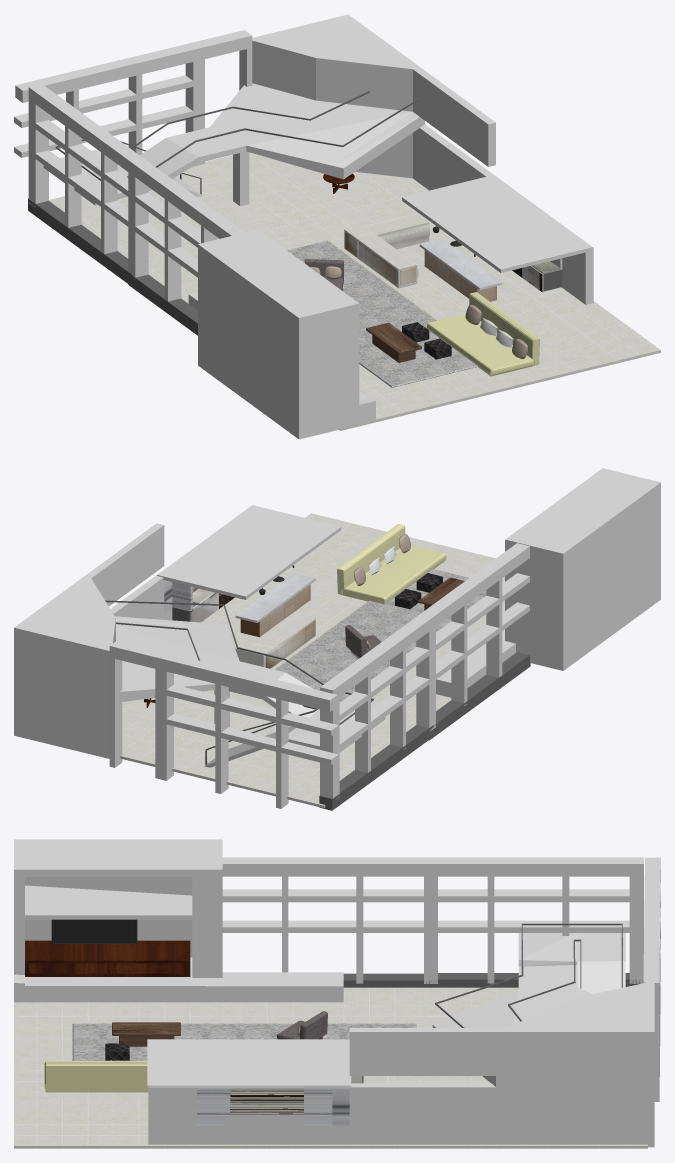
The model's file is interior house.fbx.
The picture shows the model from 3 angles, top to bottom: view 1: azimuth 30°, elevation 25°; view 2: azimuth 150°, elevation 25°; view 3: azimuth 270°, elevation 25°; orthographic projection. The views are drawn at different scales.
Parts seen in each view (by area): view 1: kitchen_room, floor, room, outside_railing1, outside_railing, kitchen_room1, matt, lkitchenshape, DOWN_PILLAR, bed, KITCHEN_SPACER, bed_support (+3 smaller); view 2: kitchen_room, room, floor, outside_railing1, outside_railing, kitchen_room1, matt, DOWN_PILLAR, bed, lkitchenshape, bed_support, KITCHEN_SPACER (+4 smaller); view 3: kitchen_room, room, floor, outside_railing1, kitchen_room1, table2, matt, bed_support, outside_railing, DOWN_PILLAR, TV, table_LIVING (+1 smaller).
Part boxes in pixels (x1=…): kitchen_room: x1=43, y1=14, x2=593, y2=304; floor: x1=49, y1=153, x2=660, y2=430; room: x1=188, y1=229, x2=375, y2=439; outside_railing1: x1=28, y1=84, x2=244, y2=301; outside_railing: x1=14, y1=30, x2=252, y2=166; kitchen_room1: x1=402, y1=175, x2=592, y2=272; matt: x1=287, y1=240, x2=477, y2=387; lkitchenshape: x1=344, y1=212, x2=429, y2=288; DOWN_PILLAR: x1=28, y1=198, x2=197, y2=335; bed: x1=427, y1=313, x2=534, y2=376; KITCHEN_SPACER: x1=419, y1=238, x2=502, y2=290; bed_support: x1=469, y1=292, x2=539, y2=365; kitchen_room: x1=14, y1=523, x2=385, y2=767; room: x1=436, y1=468, x2=660, y2=697; floor: x1=120, y1=513, x2=504, y2=808; outside_railing1: x1=320, y1=543, x2=529, y2=799; outside_railing: x1=109, y1=640, x2=338, y2=808; kitchen_room1: x1=157, y1=505, x2=341, y2=599; matt: x1=275, y1=569, x2=486, y2=701; DOWN_PILLAR: x1=319, y1=652, x2=530, y2=810; bed: x1=341, y1=545, x2=446, y2=604; lkitchenshape: x1=230, y1=612, x2=315, y2=668; bed_support: x1=337, y1=524, x2=405, y2=594; KITCHEN_SPACER: x1=235, y1=573, x2=315, y2=622; kitchen_room: x1=148, y1=933, x2=654, y2=1147; room: x1=14, y1=839, x2=343, y2=1002; floor: x1=14, y1=987, x2=647, y2=1148; outside_railing1: x1=222, y1=857, x2=643, y2=983; kitchen_room1: x1=147, y1=1039, x2=351, y2=1089; table2: x1=25, y1=940, x2=190, y2=976; matt: x1=72, y1=1023, x2=416, y2=1060; bed_support: x1=45, y1=1062, x2=148, y2=1092; outside_railing: x1=643, y1=857, x2=660, y2=1101; DOWN_PILLAR: x1=343, y1=973, x2=642, y2=987; TV: x1=51, y1=919, x2=137, y2=943; table_LIVING: x1=112, y1=1022, x2=180, y2=1046.
Bounding box in the file's own units: 2856 × 971 × 4281.
Materials: 28 (21 with a texture image).
